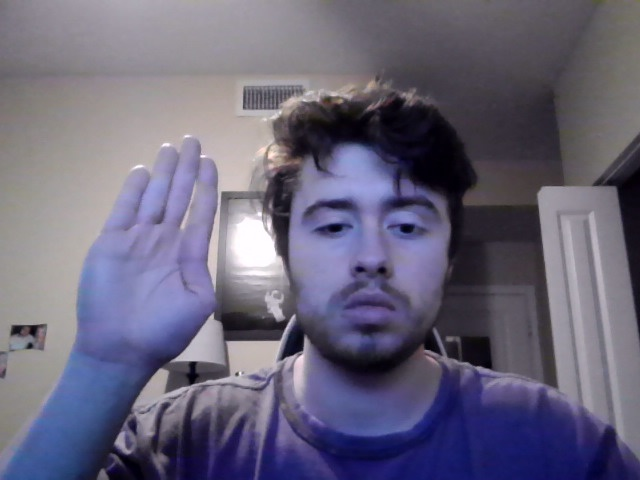b: (76, 134, 218, 373)
